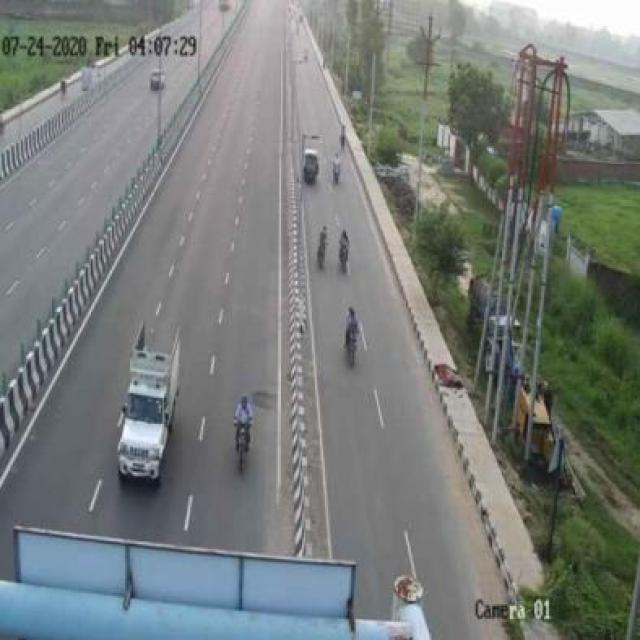car: (116, 320, 180, 486)
